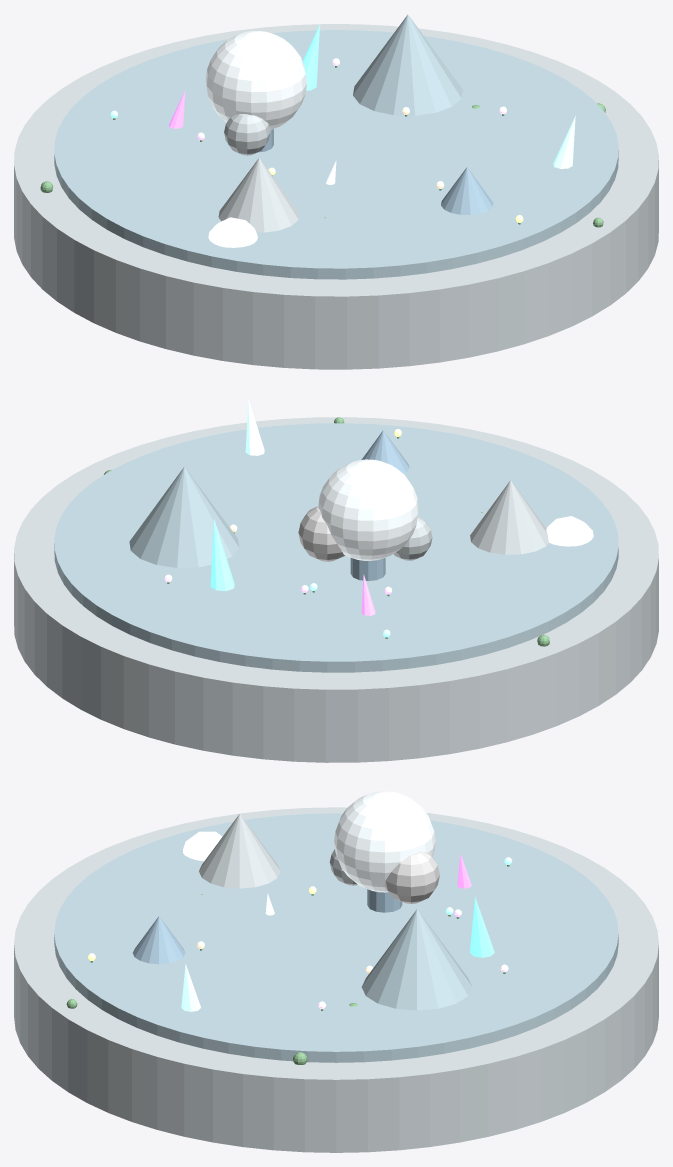
Rendered from 04_frostgipfel.glb.
3 views of the same model, one above another, from view 1: azimuth 30°, elevation 25°; view 2: azimuth 150°, elevation 25°; view 3: azimuth 270°, elevation 25° (orthographic).
Parts seen in each view (by area): view 1: GroundLayer, IslandBase, TreeCrown, Rock, Rock.001, TreeCrown3, Rock.002, Star, Crystal, Crystal.002; view 2: GroundLayer, IslandBase, TreeCrown, Rock, Rock.001, TreeCrown2, Star, Crystal, Rock.002, TreeCrown3, TreeTrunk, Crystal.002; view 3: GroundLayer, IslandBase, TreeCrown, Rock, Rock.001, TreeCrown2, Rock.002, Crystal, Star, TreeTrunk, Crystal.002.
Part boxes in pixels (left/top/right/bottom): GroundLayer: left=54, top=30, right=618, bottom=279; IslandBase: left=14, top=24, right=658, bottom=369; TreeCrown: left=206, top=31, right=306, bottom=129; Rock: left=353, top=14, right=462, bottom=115; Rock.001: left=218, top=158, right=299, bottom=232; TreeCrown3: left=224, top=114, right=270, bottom=155; Rock.002: left=441, top=167, right=493, bottom=214; Star: left=208, top=217, right=257, bottom=247; Crystal: left=302, top=24, right=320, bottom=90; Crystal.002: left=553, top=116, right=575, bottom=168; GroundLayer: left=54, top=423, right=618, bottom=672; IslandBase: left=14, top=417, right=658, bottom=762; TreeCrown: left=318, top=459, right=418, bottom=560; Rock: left=129, top=466, right=239, bottom=567; Rock.001: left=470, top=480, right=548, bottom=554; TreeCrown2: left=298, top=506, right=344, bottom=561; Star: left=546, top=516, right=593, bottom=546; Crystal: left=210, top=518, right=234, bottom=591; Rock.002: left=361, top=430, right=409, bottom=473; TreeCrown3: left=394, top=517, right=432, bottom=560; TreeTrunk: left=350, top=557, right=385, bottom=580; Crystal.002: left=245, top=399, right=264, bottom=455; GroundLayer: left=54, top=813, right=618, bottom=1062; IslandBase: left=14, top=807, right=658, bottom=1152; TreeCrown: left=334, top=791, right=435, bottom=892; Rock: left=361, top=909, right=472, bottom=1010; Rock.001: left=199, top=814, right=280, bottom=888; TreeCrown2: left=385, top=851, right=439, bottom=903; Rock.002: left=133, top=916, right=185, bottom=964; Crystal: left=470, top=897, right=494, bottom=957; Star: left=183, top=831, right=222, bottom=861; TreeTrunk: left=367, top=889, right=402, bottom=912; Crystal.002: left=181, top=964, right=200, bottom=1011.
Bounding box in the file's own units: 10 × 3.44 × 10.
